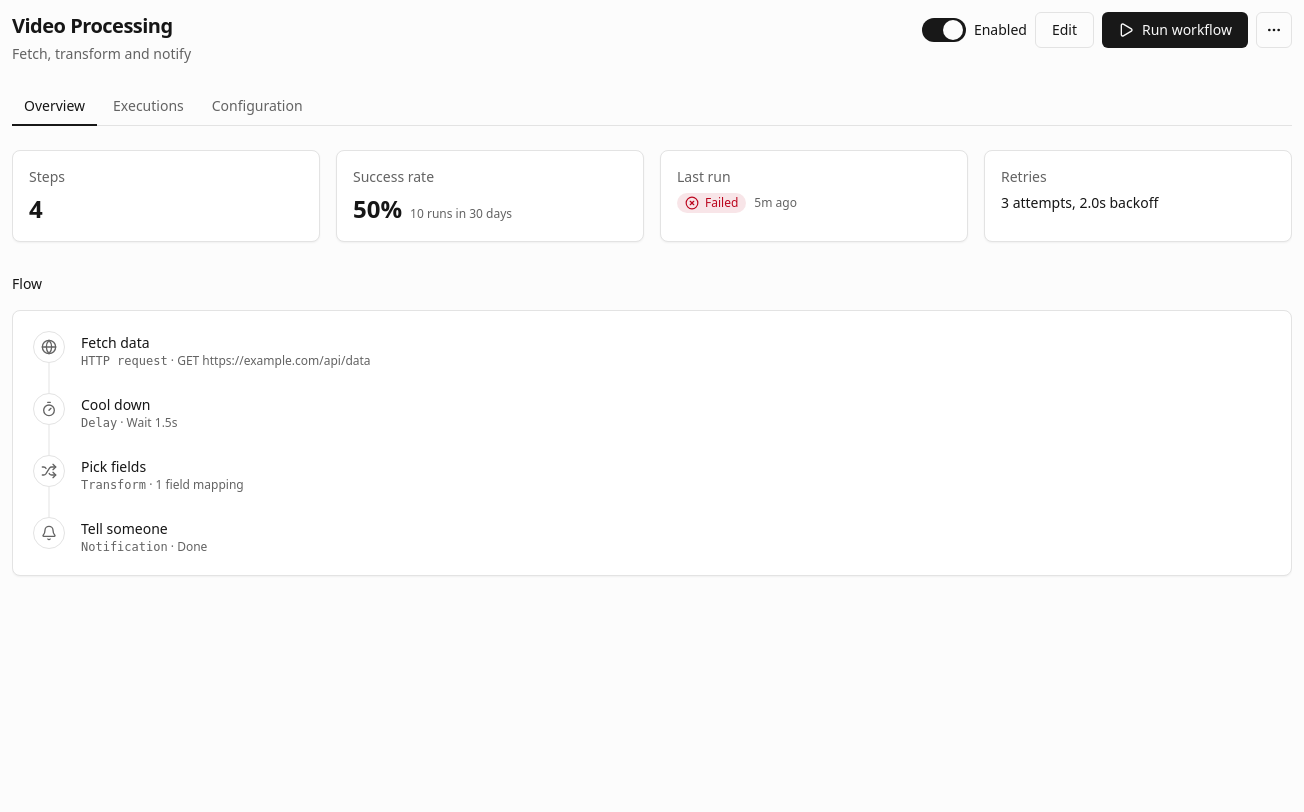
Test: WorkflowDetailsPage › loads executions only when their tab is opened, and keeps the tab in the URL
The image size is (1304, 812).
Expected: the heading "Video Processing" is shown, [12,12,191,40]
Click the tab "Executions": (148, 107) [101,88,196,126]
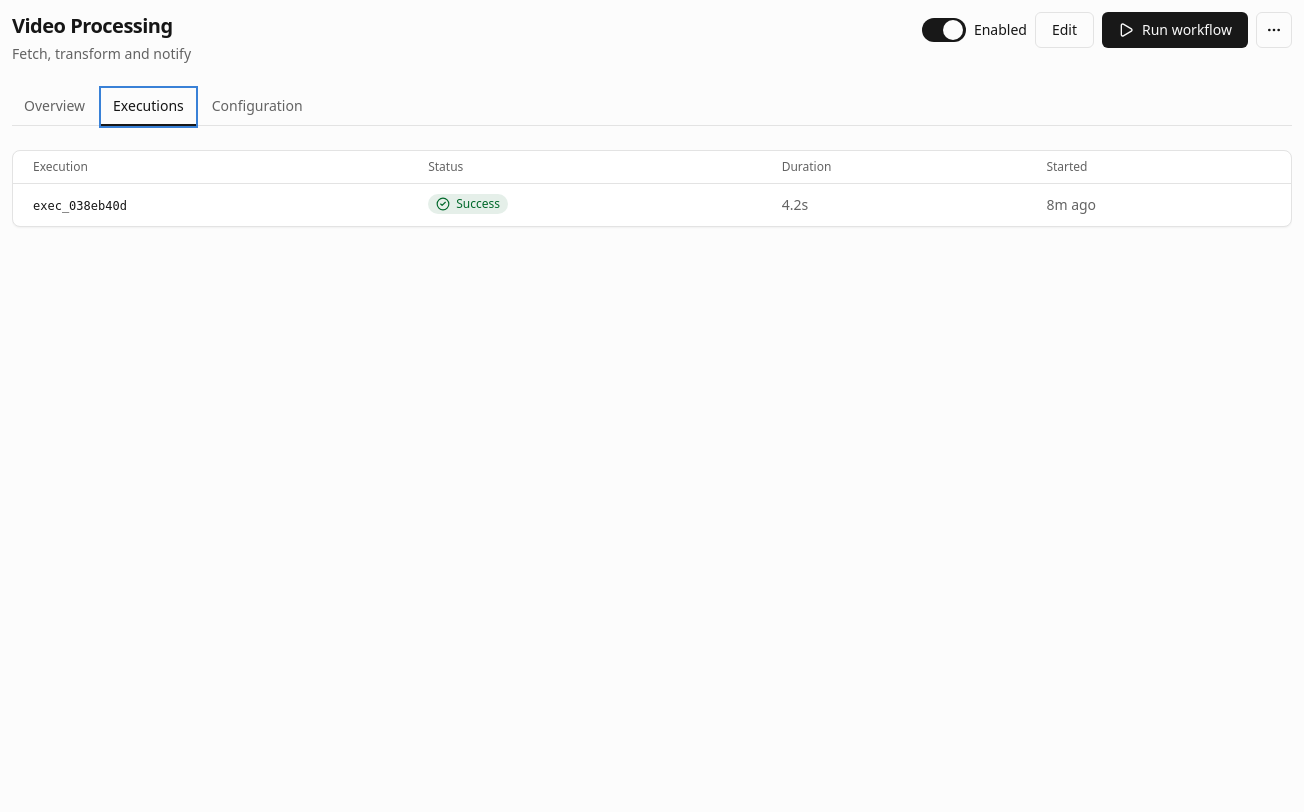
Result: the text "4.2s" is shown at [762,184,1026,226]
